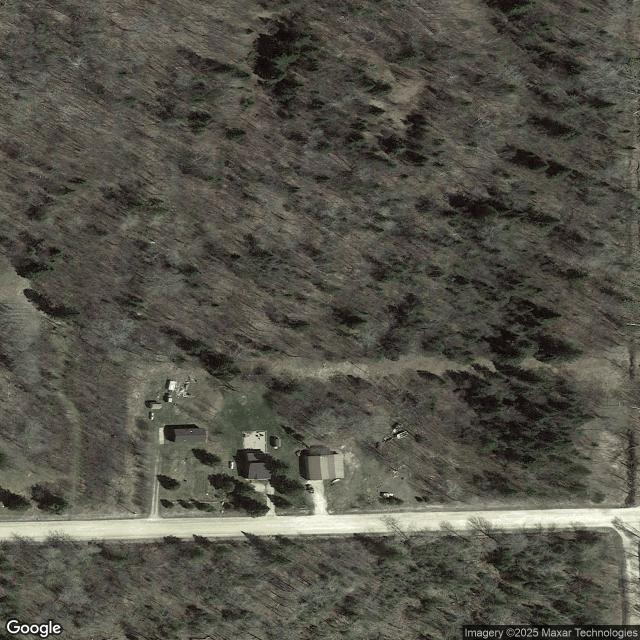Propane: (230, 462, 234, 470), (150, 412, 154, 420)
